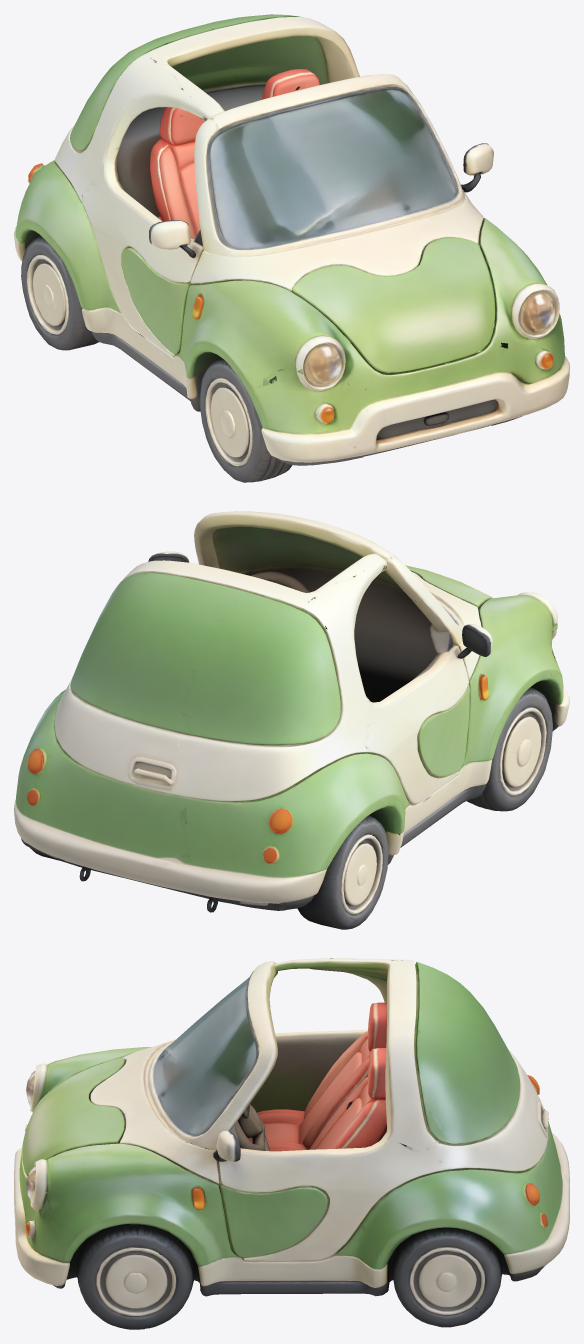
File: sprout-desktop.glb
3 renders of one model, top to bottom at view 1: azimuth 30°, elevation 25°; view 2: azimuth 150°, elevation 25°; view 3: azimuth 270°, elevation 25°, orthographic. The views are drawn at different scales.
Parts seen in each view (by area): view 1: model; view 2: model; view 3: model.
Boxes of the visible parts, x1=… form: model: x1=14, y1=14, x2=569, y2=482; model: x1=14, y1=511, x2=569, y2=929; model: x1=14, y1=958, x2=569, y2=1329.
Size of the model in its own units: 1.23 by 1.05 by 1.89.
Materials: 1 (1 with a texture image).
